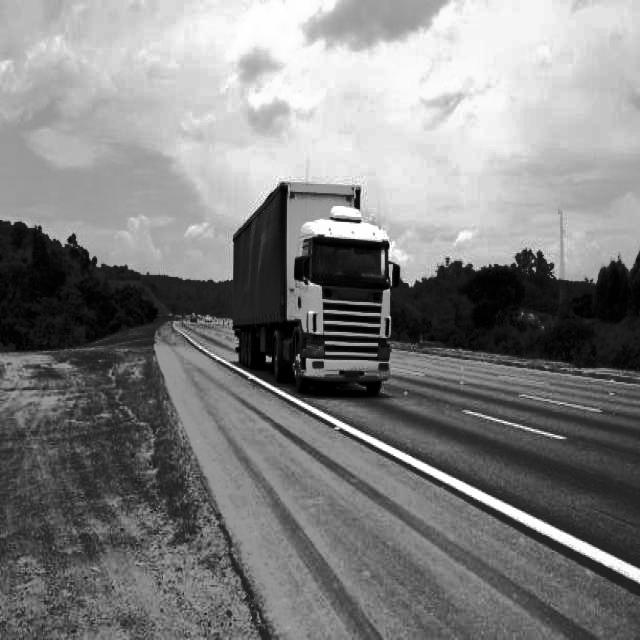HCV: (218, 150, 418, 430)
